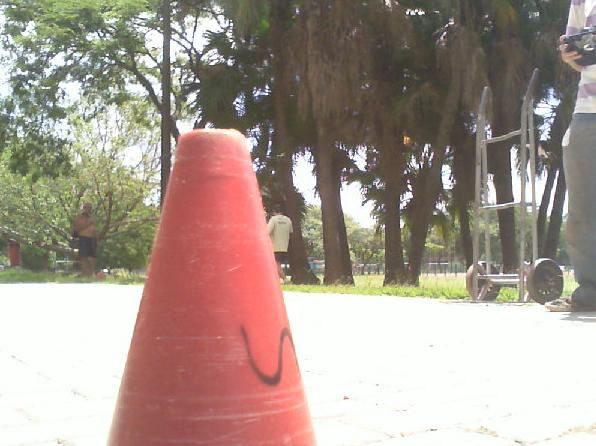0 cone: (106, 128, 315, 446)
